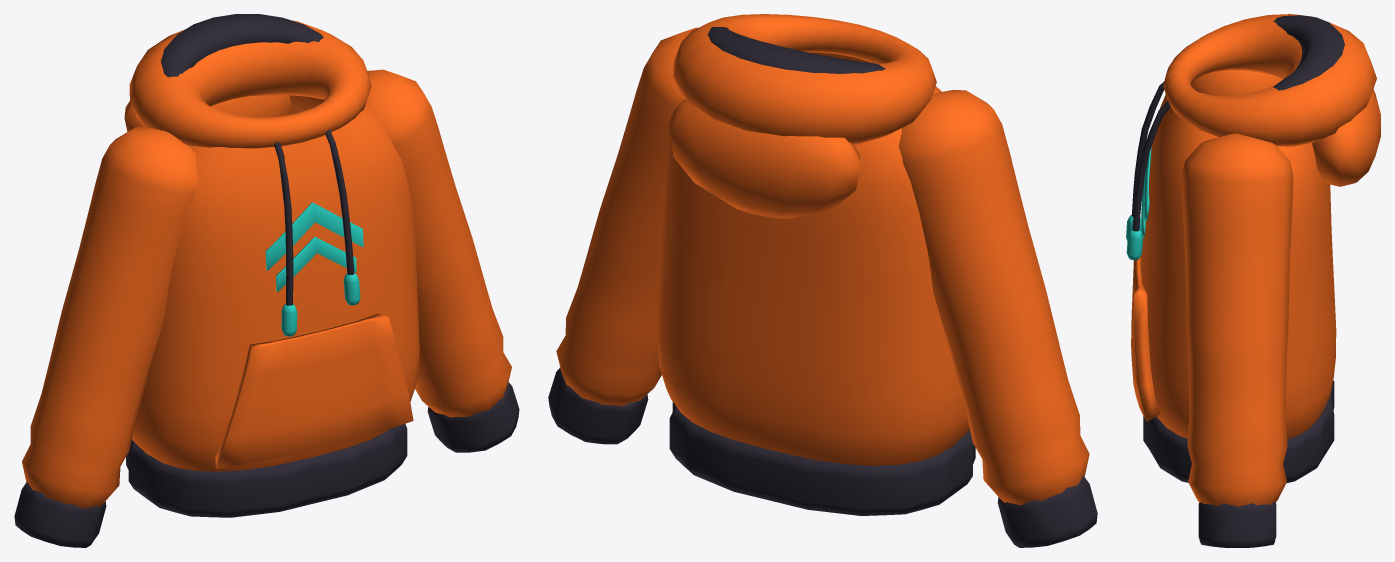
File: jacket_orange.glb
3 renders of one model, left to right at view 1: azimuth 30°, elevation 25°; view 2: azimuth 150°, elevation 25°; view 3: azimuth 270°, elevation 25°, orthographic. The views are drawn at different scales.
Visible parts, largest first — view 1: Torso, Sleeve_R, Sleeve_L, KangarooPocket, HoodRoll, Hem, HoodLining, Cuff_R, Cuff_L, ChestPrint_Upper, HoodBunch, Drawstring_R (+2 smaller); view 2: Torso, Sleeve_R, Sleeve_L, HoodRoll, Hem, HoodBunch, Cuff_R, Cuff_L, HoodLining; view 3: Sleeve_L, Torso, HoodRoll, Hem, HoodBunch, Cuff_L, HoodLining, KangarooPocket, Sleeve_R, Drawstring_L, Drawstring_R, DrawstringTip_L (+1 smaller).
Boxes of the visible parts, left/top/right/bottom form: Torso: left=132, top=95, right=419, bottom=471; Sleeve_R: left=22, top=127, right=198, bottom=508; Sleeve_L: left=366, top=69, right=511, bottom=417; KangarooPocket: left=215, top=313, right=413, bottom=468; HoodRoll: left=129, top=20, right=371, bottom=148; Hem: left=126, top=424, right=407, bottom=517; HoodLining: left=161, top=14, right=323, bottom=77; Cuff_R: left=14, top=481, right=106, bottom=547; Cuff_L: left=427, top=382, right=519, bottom=452; ChestPrint_Upper: left=265, top=202, right=363, bottom=270; HoodBunch: left=124, top=95, right=292, bottom=131; Drawstring_R: left=274, top=142, right=293, bottom=305; Torso: left=657, top=52, right=969, bottom=465; Sleeve_R: left=899, top=90, right=1089, bottom=505; Sleeve_L: left=556, top=27, right=698, bottom=406; HoodRoll: left=673, top=14, right=936, bottom=144; Hem: left=669, top=402, right=975, bottom=515; HoodBunch: left=668, top=99, right=860, bottom=218; Cuff_R: left=997, top=476, right=1097, bottom=547; Cuff_L: left=548, top=367, right=648, bottom=444; HoodLining: left=708, top=27, right=885, bottom=73; Sleeve_L: left=1181, top=133, right=1293, bottom=506; Torso: left=1140, top=95, right=1336, bottom=439; HoodRoll: left=1163, top=14, right=1376, bottom=146; Hem: left=1143, top=380, right=1334, bottom=483; HoodBunch: left=1312, top=89, right=1380, bottom=186; Cuff_L: left=1198, top=501, right=1276, bottom=547; HoodLining: left=1273, top=15, right=1344, bottom=90; KangarooPocket: left=1131, top=256, right=1160, bottom=421; Sleeve_R: left=1190, top=70, right=1282, bottom=95; Drawstring_L: left=1132, top=101, right=1170, bottom=231; Drawstring_R: left=1131, top=81, right=1164, bottom=216; DrawstringTip_L: left=1126, top=229, right=1142, bottom=260.
Size of the model in its own units: 0.8731 by 0.7409 by 0.4129.
